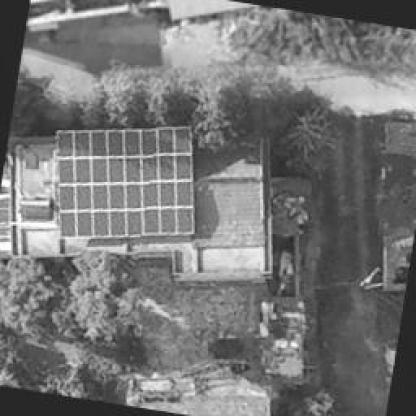solar-pv-panel: (57, 126, 194, 239)
